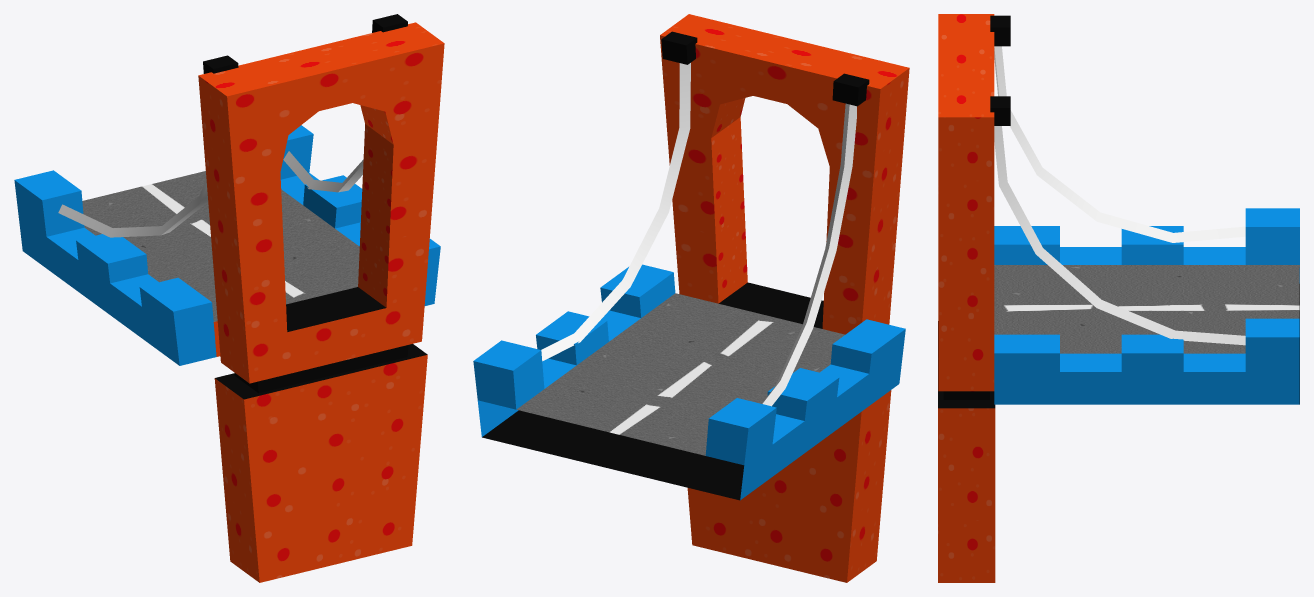
Rendered from Bridge_End.fbx.
3 views of the same model, side by side, from view 1: azimuth 30°, elevation 25°; view 2: azimuth 150°, elevation 25°; view 3: azimuth 270°, elevation 25° (orthographic). The views are drawn at different scales.
Visible parts, largest first — view 1: polySurface36; view 2: polySurface36; view 3: polySurface36.
Boxes of the visible parts, x1,y1,x2,y2 form: polySurface36: (14,14,444,582); polySurface36: (473,14,909,582); polySurface36: (938,14,1299,582).
Size of the model in its own units: 43.26 by 75.99 by 51.29.
